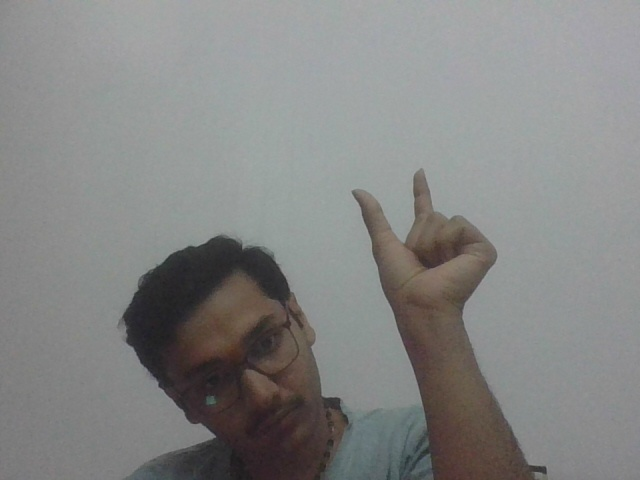U: (353, 165, 508, 321)
